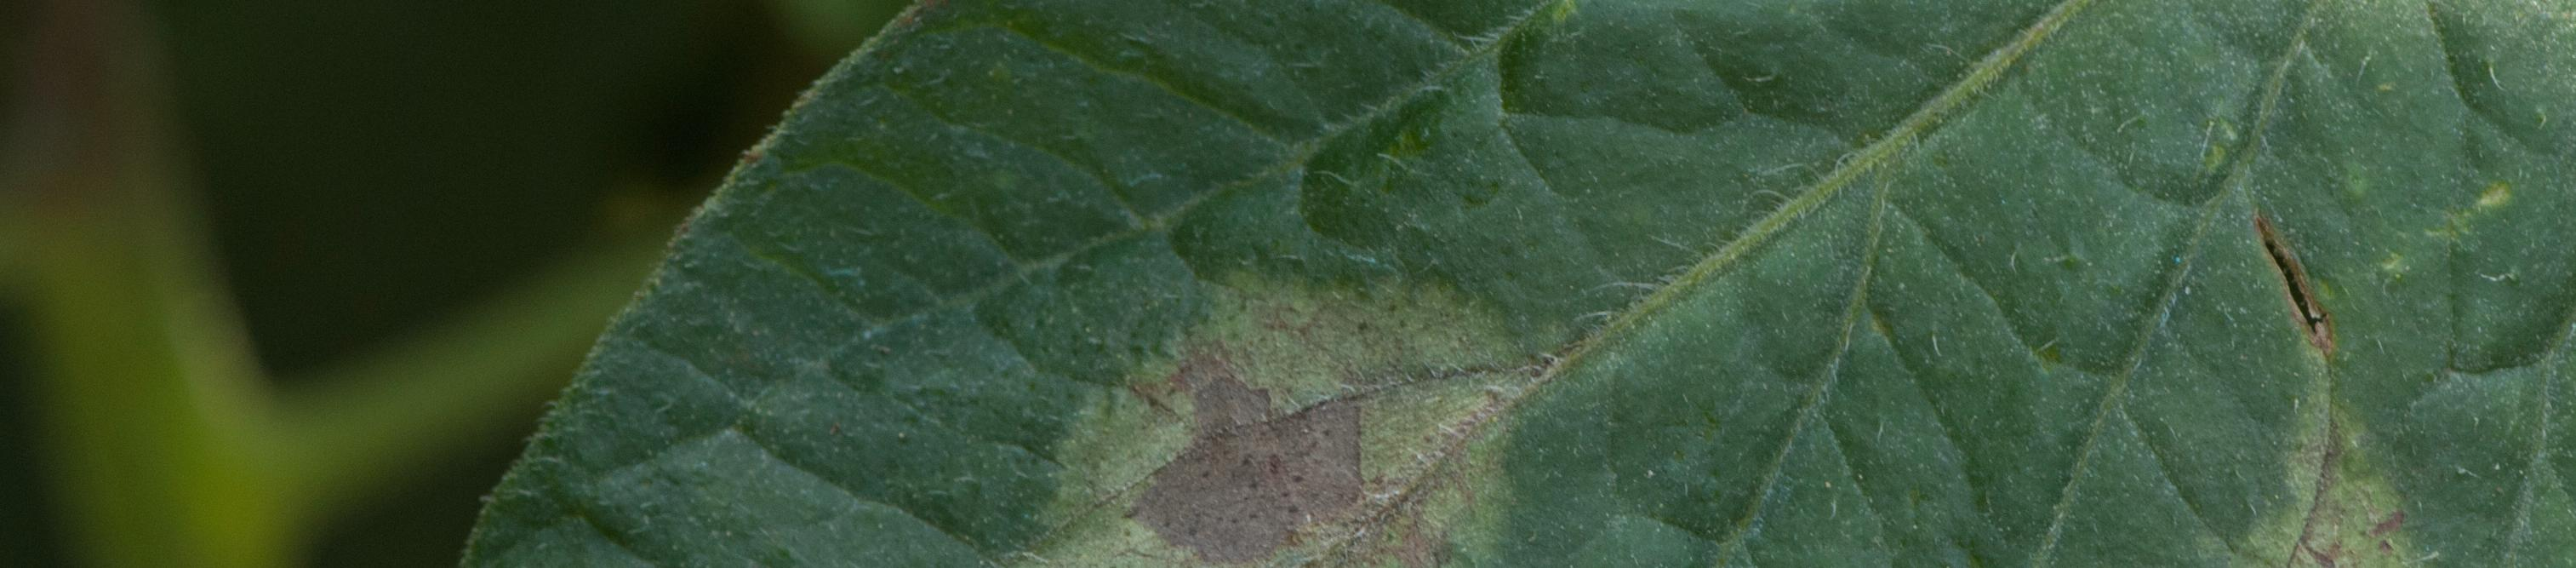Tomato leaf late blight: (69, 0, 2576, 568)
